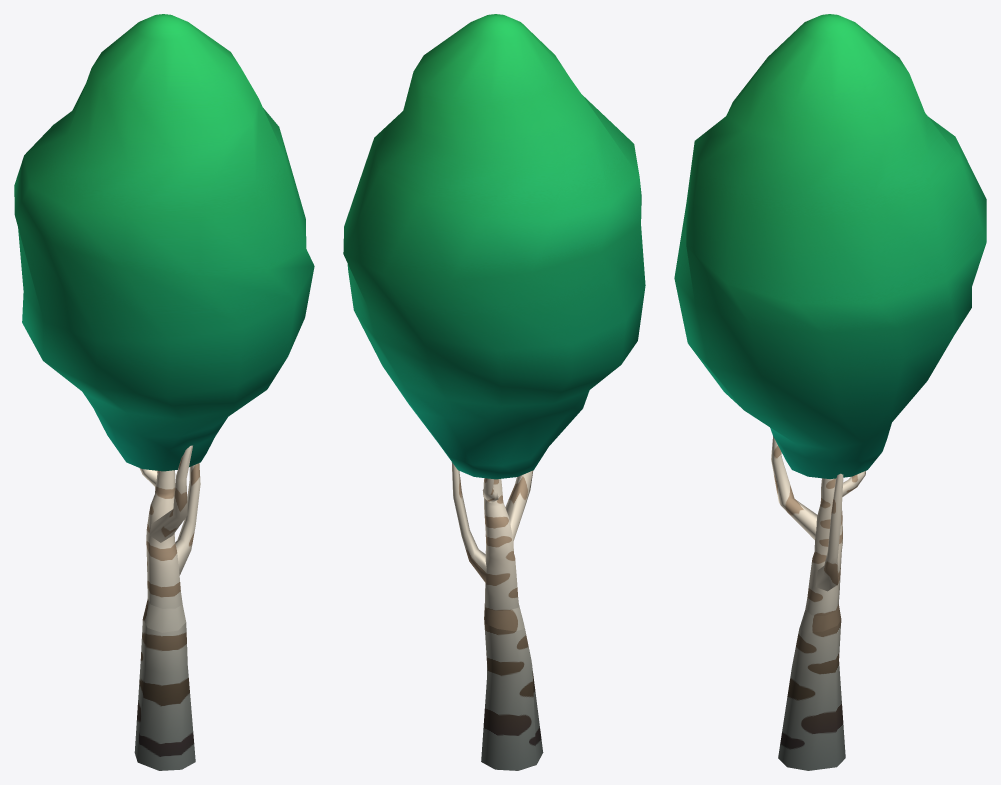
The model's file is BIRCH01.fbx.
3 renders of one model, left to right at view 1: azimuth 30°, elevation 25°; view 2: azimuth 150°, elevation 25°; view 3: azimuth 270°, elevation 25°, orthographic.
Visible parts, largest first — view 1: TREE_MAIN_LEAVES, BIRCH01; view 2: TREE_MAIN_LEAVES, BIRCH01; view 3: TREE_MAIN_LEAVES, BIRCH01.
Part boxes in pixels (<box>): TREE_MAIN_LEAVES: <box>14,14,314,471</box>; BIRCH01: <box>134,445,200,770</box>; TREE_MAIN_LEAVES: <box>343,14,645,479</box>; BIRCH01: <box>451,462,543,770</box>; TREE_MAIN_LEAVES: <box>674,14,986,478</box>; BIRCH01: <box>771,436,865,770</box>.
Bounding box in the file's own units: 2.85 × 7.83 × 2.98.
